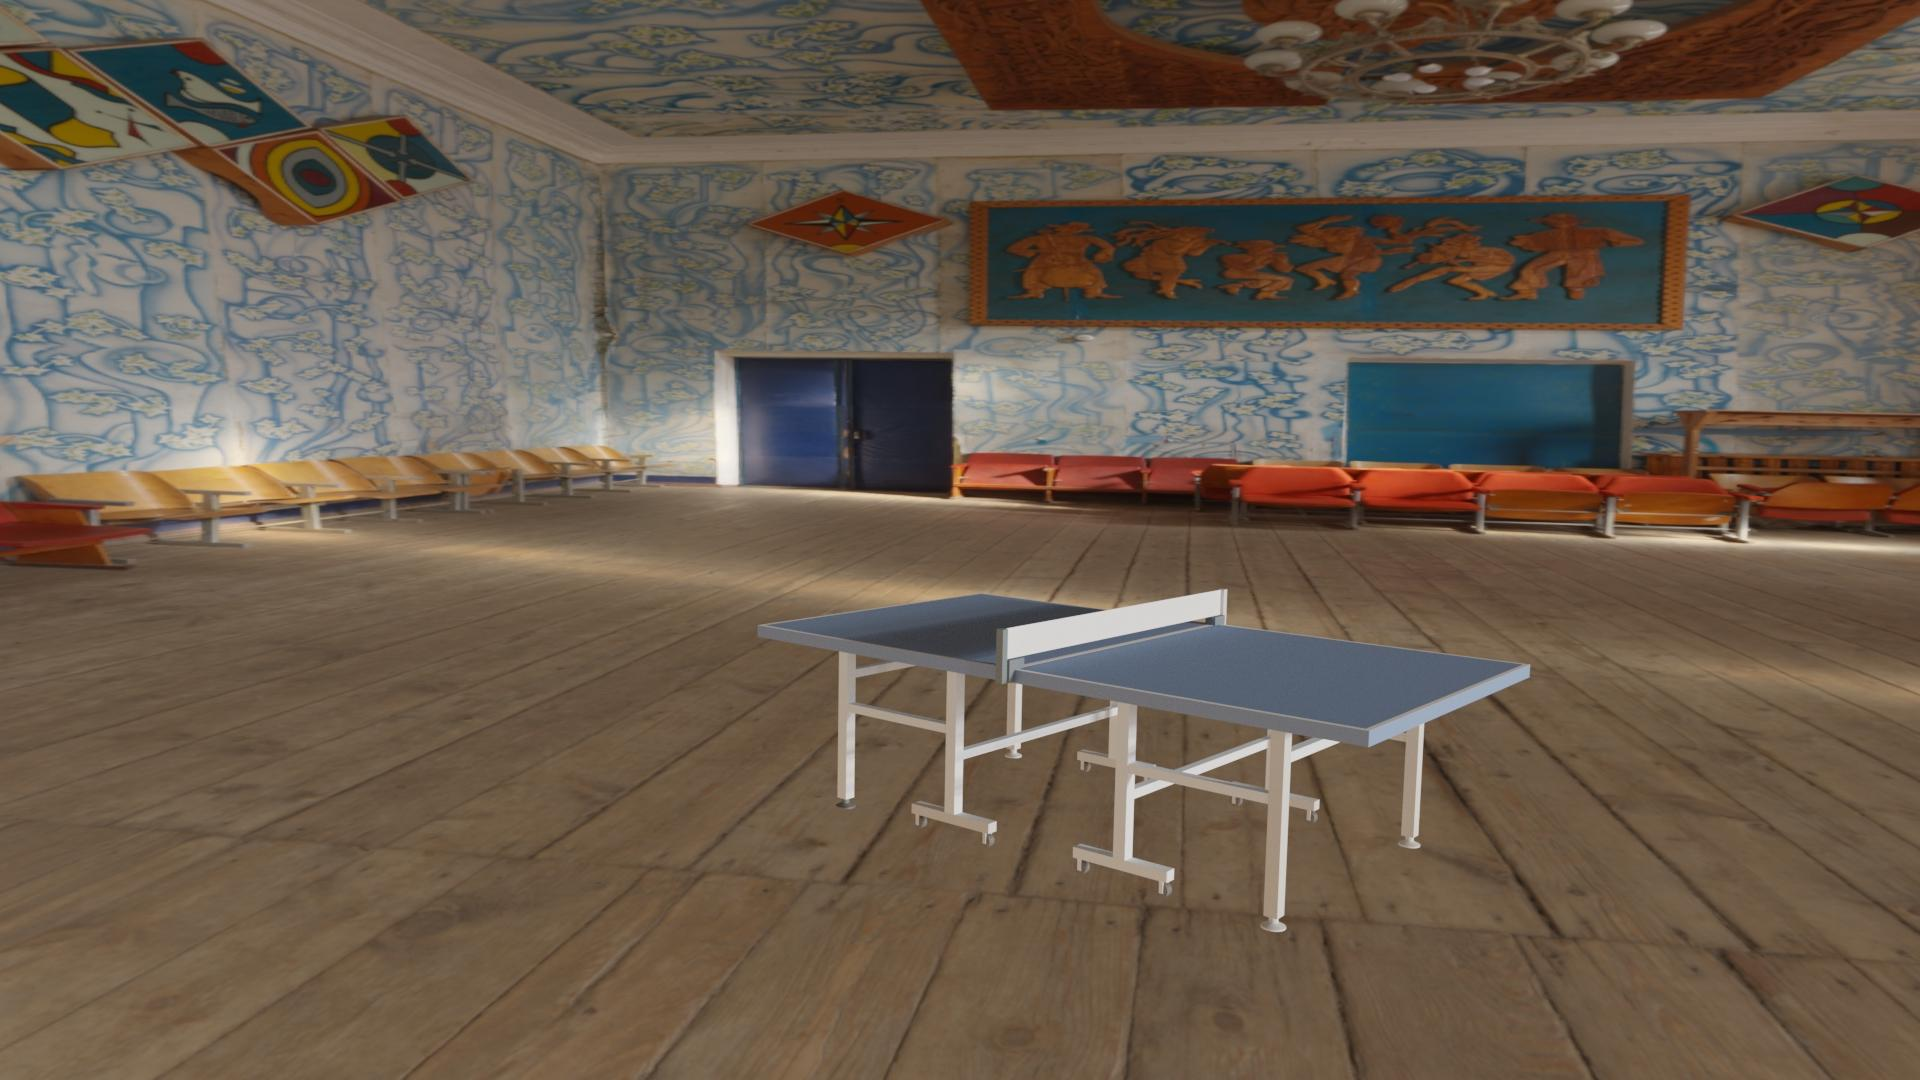table: (765, 593, 1523, 729)
